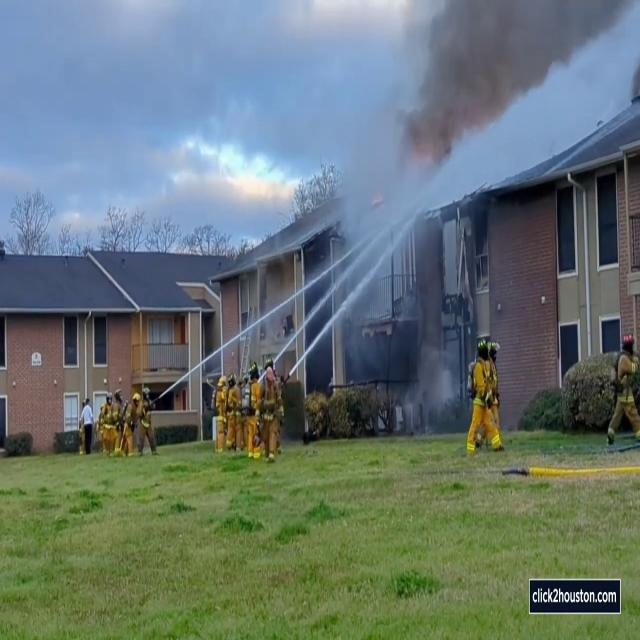Smoke: (390, 0, 592, 166)
